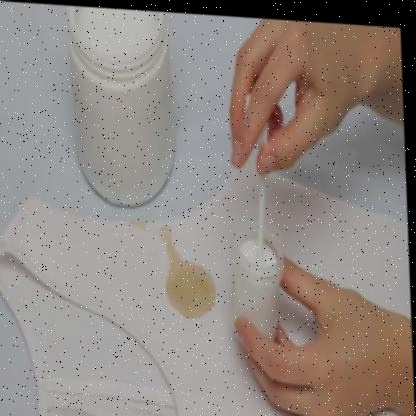coffee: (173, 271, 206, 307)
